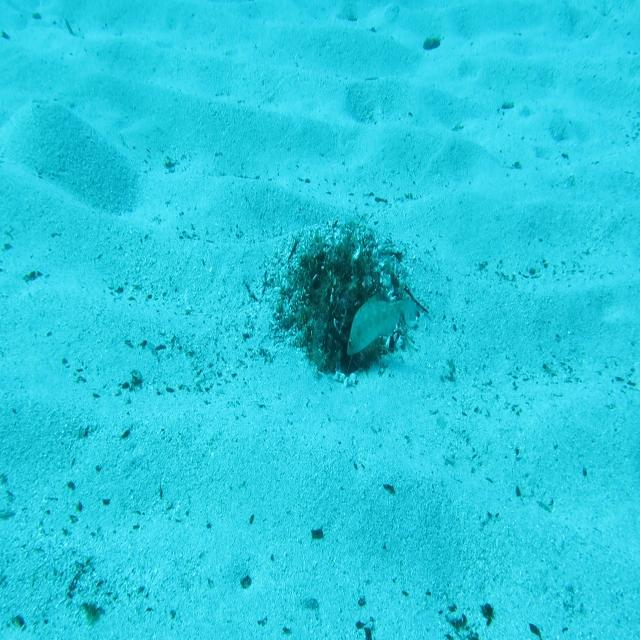NIP_IN: (344, 293, 418, 360)
core_nest: (324, 267, 368, 294)
nest: (276, 221, 418, 379)
